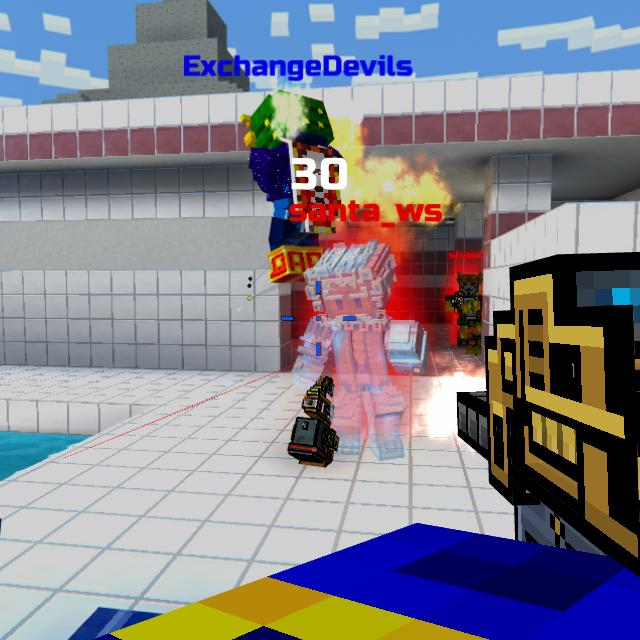Enemy: (305, 238, 428, 461), (443, 272, 482, 351)
